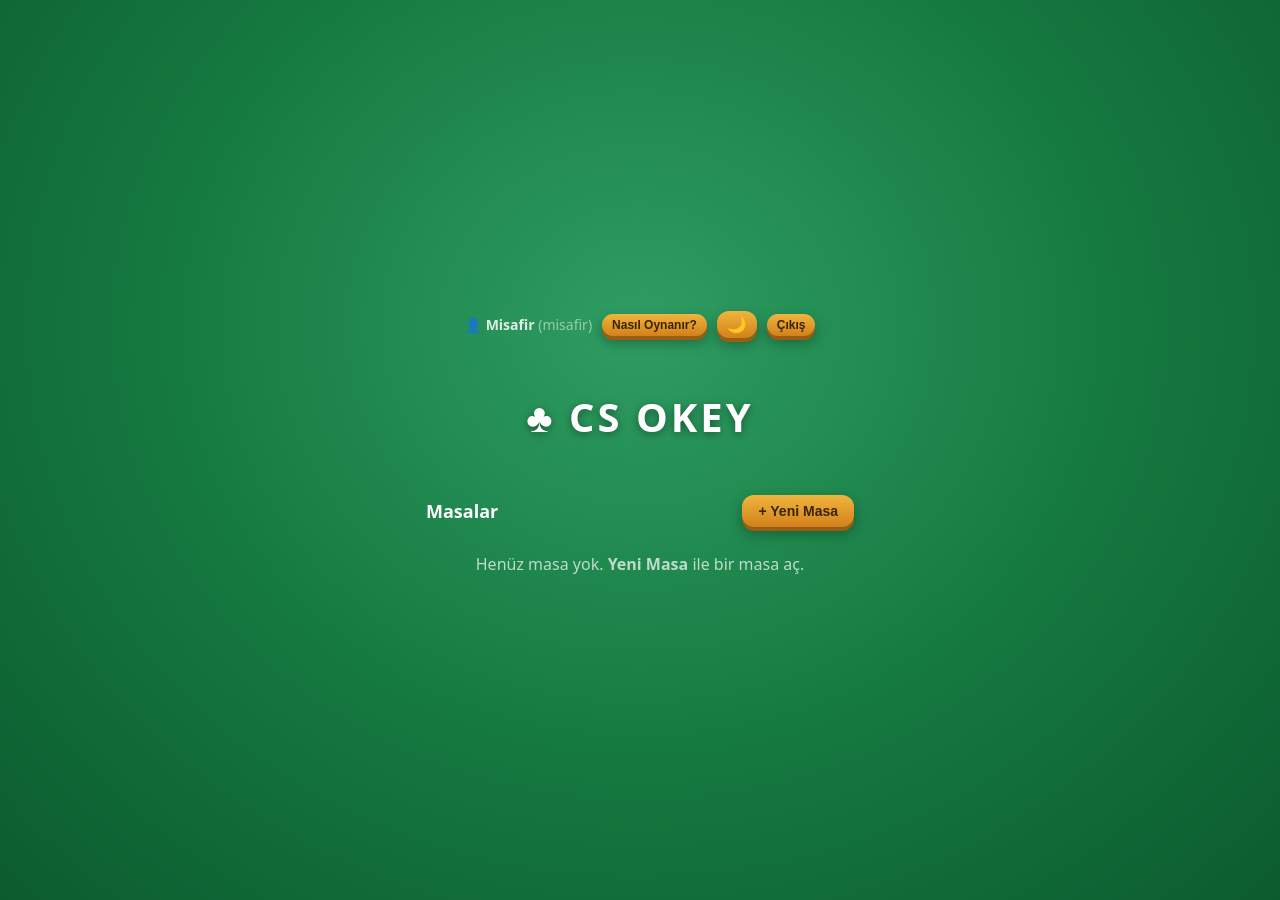
it: App + lobby integration › opens an Eşli 101 table from the lobby
Click the button "+ Yeni Masa" at (798, 511), box [742,495,854,527]
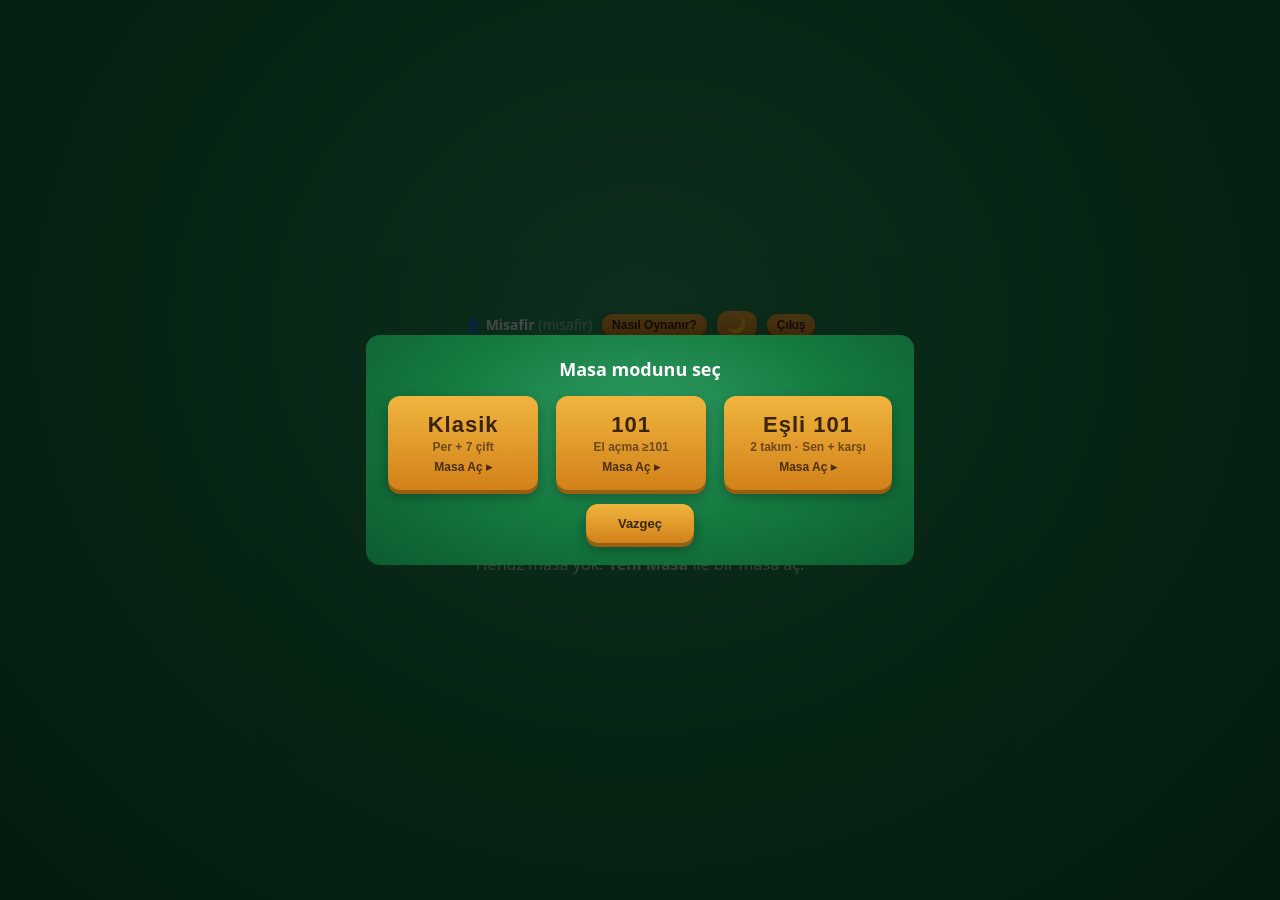
Click the button "Eşli 101 2 takım · Sen + karşı Masa Aç ▸" at (808, 443), box [724,396,892,490]
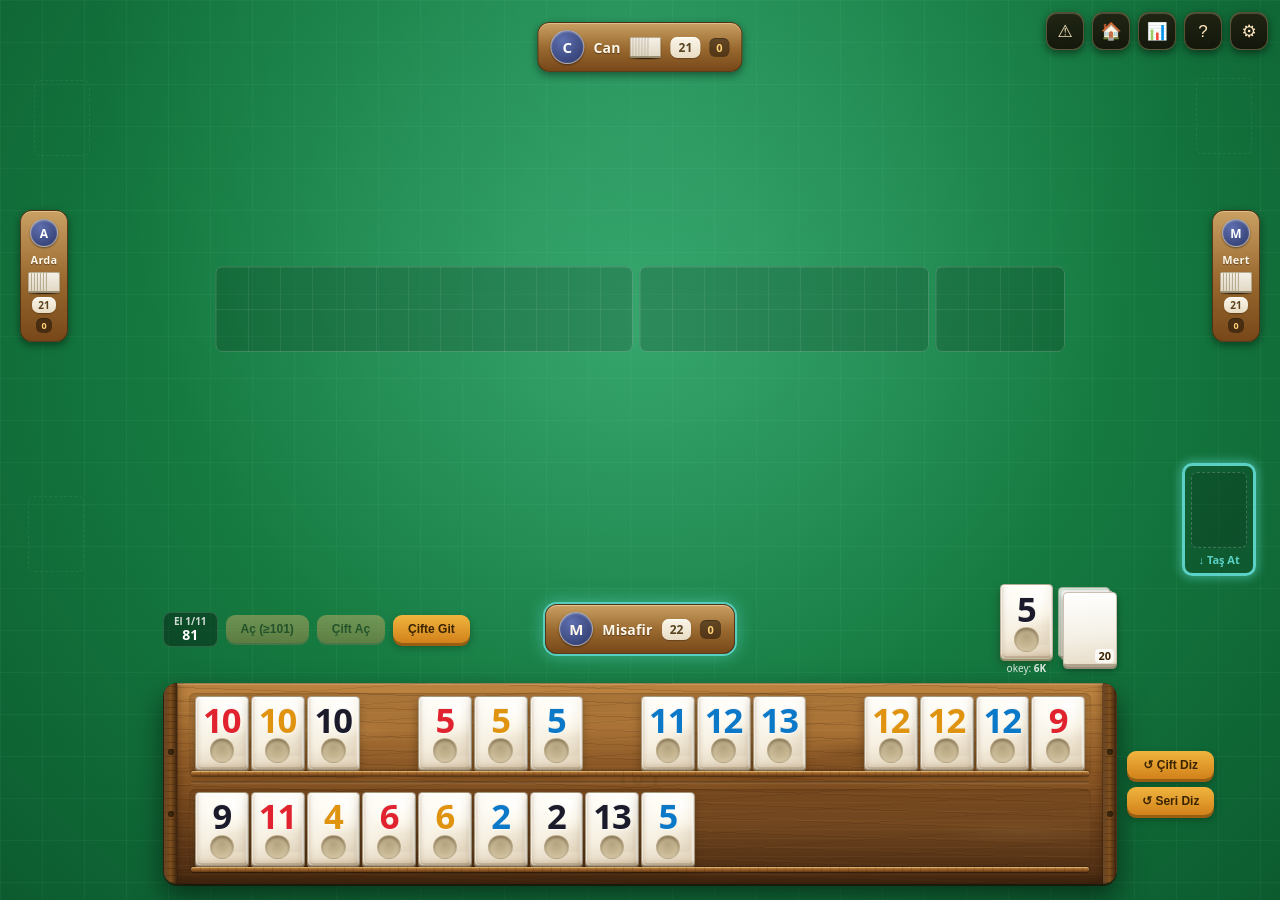
Expected: the number of buttons with test id "tile" is 22
